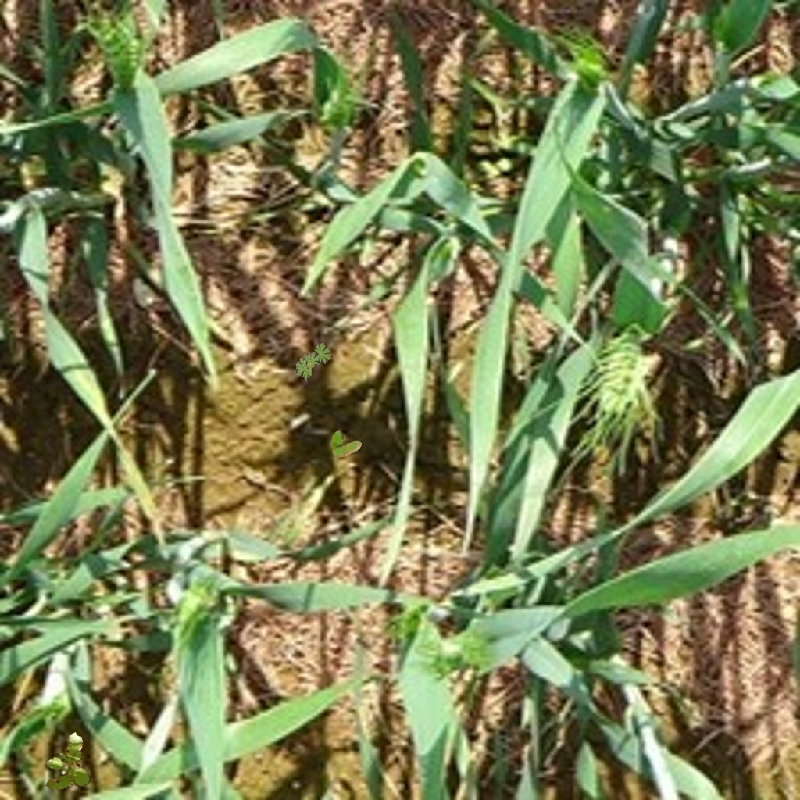spikelet: (588, 325, 655, 420), (90, 15, 146, 92), (314, 68, 362, 129), (566, 35, 611, 94), (443, 627, 486, 664), (174, 594, 219, 629), (400, 595, 434, 628)
weed: (45, 732, 91, 791), (296, 343, 333, 381), (332, 429, 362, 457)
